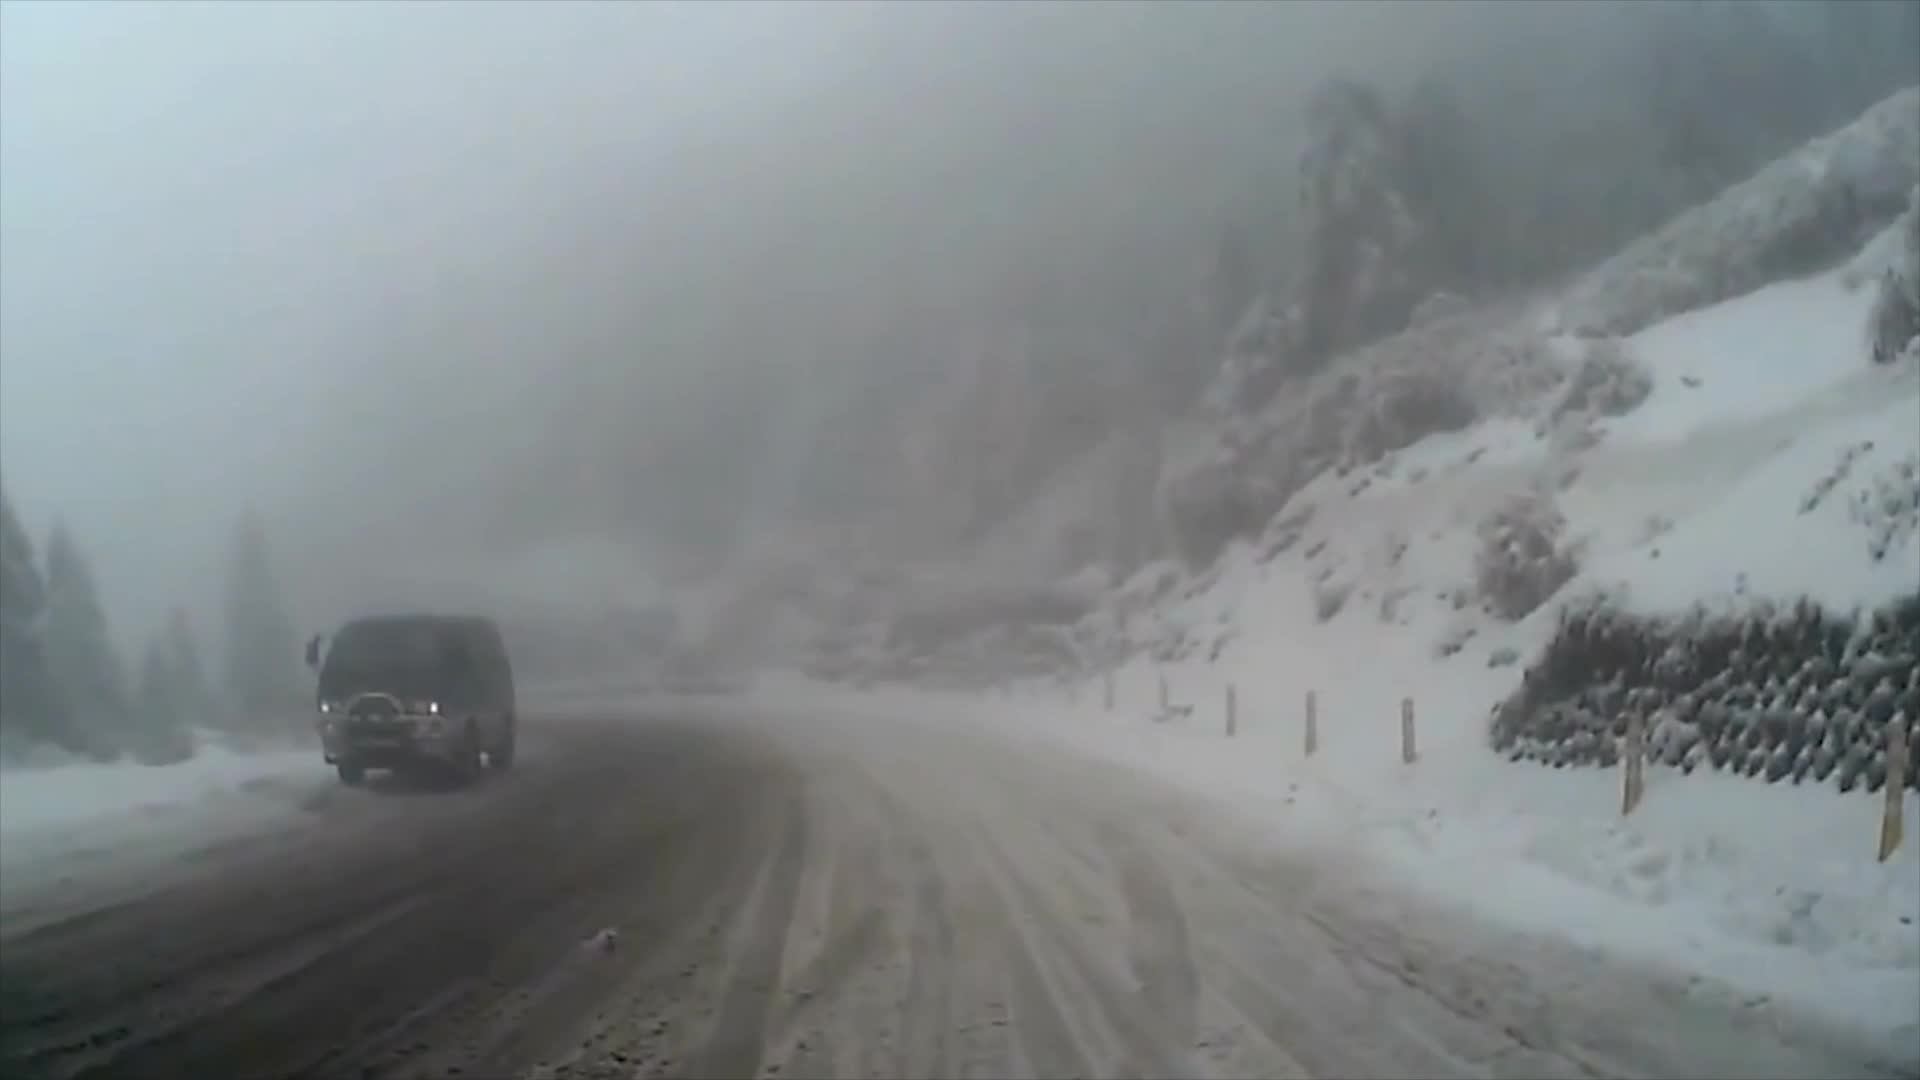vehicle: (305, 612, 520, 790)
